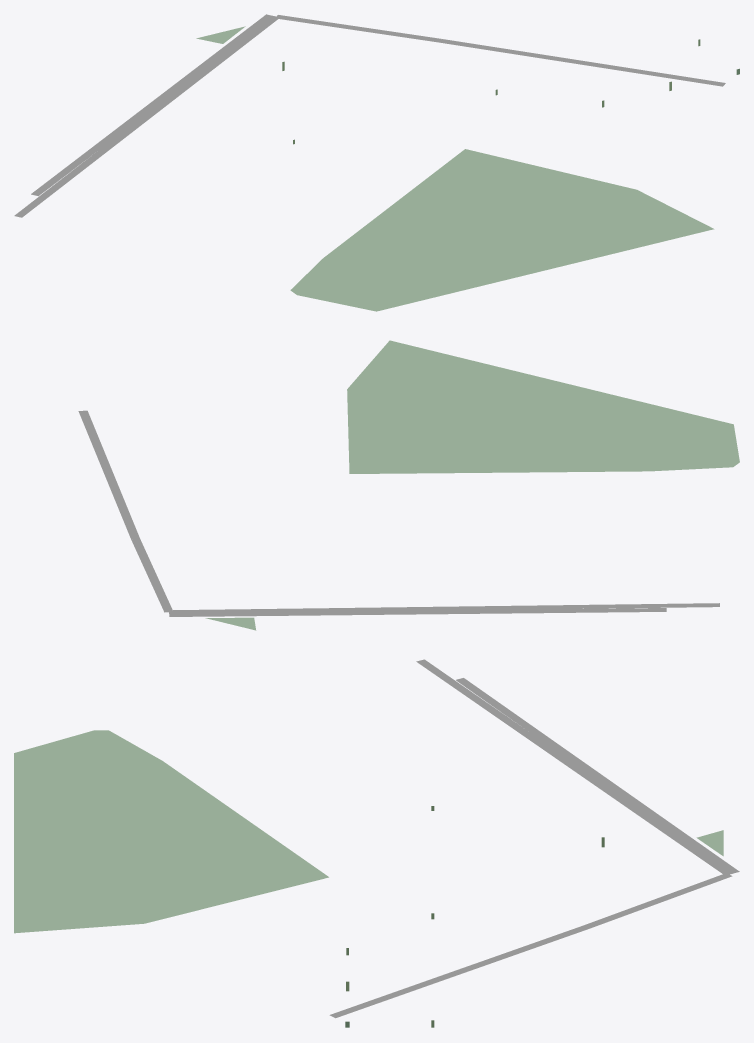
3 views of the same model, one above another, from view 1: azimuth 30°, elevation 25°; view 2: azimuth 150°, elevation 25°; view 3: azimuth 270°, elevation 25° (orthographic). The views are drawn at different scales.
Bounding box in the file's own units: 614 × 8.19 × 511.
